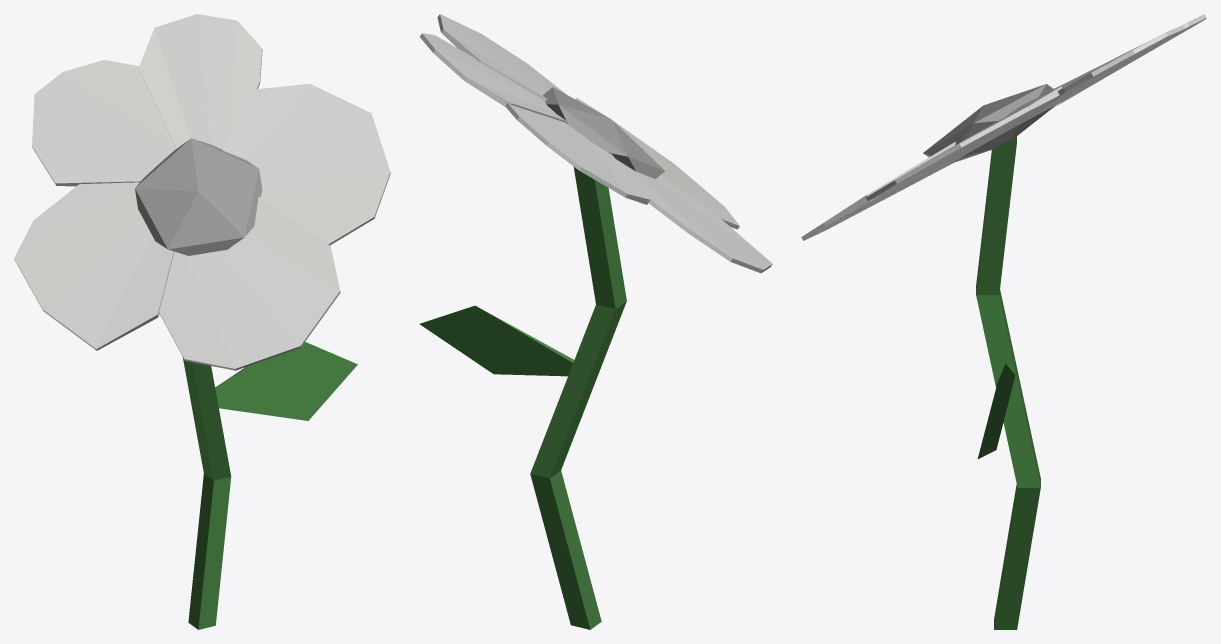
File: Flower_2_White.fbx
The picture shows the model from 3 angles, left to right: view 1: azimuth 30°, elevation 25°; view 2: azimuth 150°, elevation 25°; view 3: azimuth 270°, elevation 25°; orthographic projection. The views are drawn at different scales.
Visible parts, largest first — view 1: Flower_2_White_Part_2, Flower_2_White_Part_1, Flower_2_White_Part_3; view 2: Flower_2_White_Part_1, Flower_2_White_Part_2, Flower_2_White_Part_3; view 3: Flower_2_White_Part_1, Flower_2_White_Part_2, Flower_2_White_Part_3.
Part boxes in pixels (x1,y1,x2,y2): Flower_2_White_Part_2: (14,14,390,370); Flower_2_White_Part_1: (183,342,357,629); Flower_2_White_Part_3: (135,138,262,255); Flower_2_White_Part_1: (419,167,626,629); Flower_2_White_Part_2: (419,14,772,273); Flower_2_White_Part_3: (543,87,664,178); Flower_2_White_Part_1: (976,136,1040,629); Flower_2_White_Part_2: (801,14,1206,240); Flower_2_White_Part_3: (923,84,1054,163).
Bounding box in the file's own units: 17.91 × 29.92 × 17.47.
